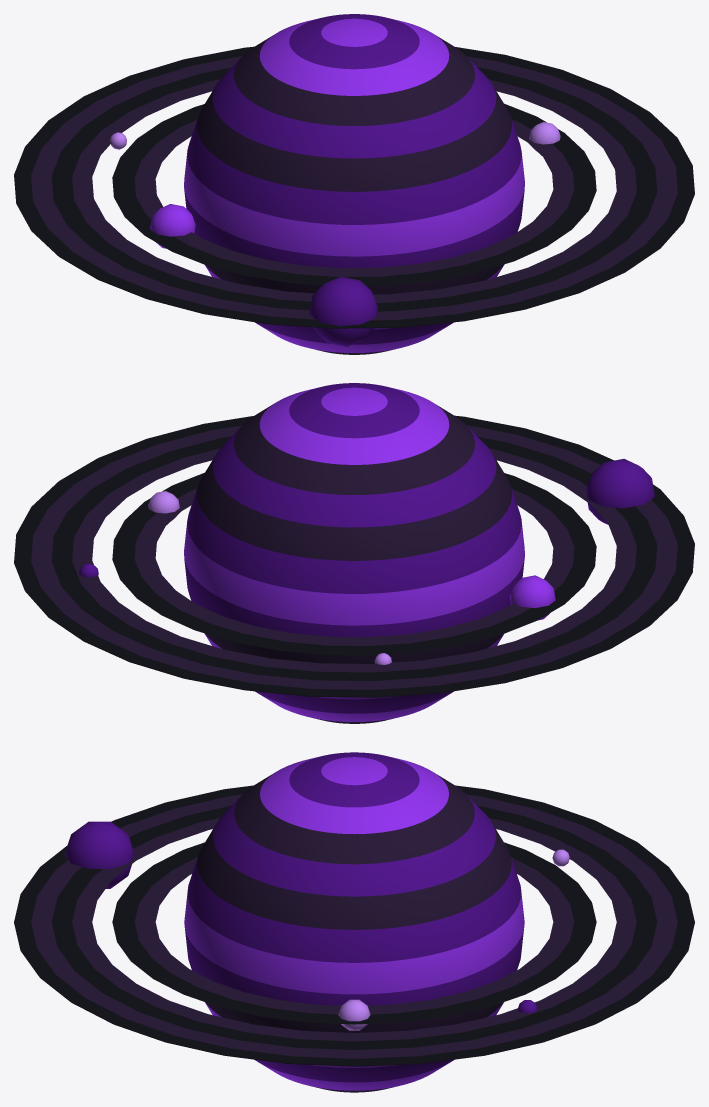
Rendered from Planet.fbx.
The picture shows the model from 3 angles, top to bottom: view 1: azimuth 30°, elevation 25°; view 2: azimuth 150°, elevation 25°; view 3: azimuth 270°, elevation 25°; orthographic projection.
Visible parts, largest first — view 1: Sphere, Cylinder, Icosphere; view 2: Sphere, Cylinder, Icosphere; view 3: Sphere, Cylinder, Icosphere.
Part boxes in pixels (x1,y1,x2,y2): Sphere: (184,14,524,354); Cylinder: (14,46,694,328); Icosphere: (110,122,560,346); Sphere: (184,383,524,723); Cylinder: (14,415,694,697); Icosphere: (79,459,654,664); Sphere: (184,752,524,1092); Cylinder: (14,785,694,1066); Icosphere: (64,821,569,1030).
Bounding box in the file's own units: 400 × 200 × 400.
